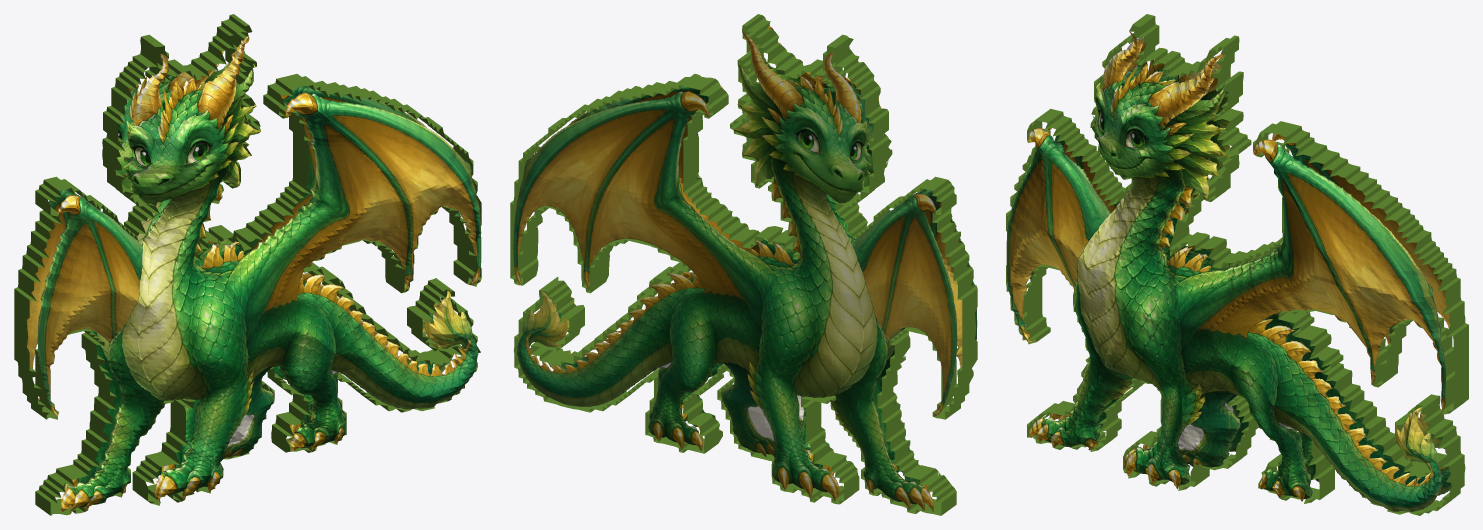
The model's file is dragon.obj.
The picture shows the model from 3 angles, left to right: view 1: azimuth 30°, elevation 25°; view 2: azimuth 150°, elevation 25°; view 3: azimuth 330°, elevation 25°; orthographic projection.
Visible parts, largest first — view 1: front_exact, solid_edges, back_exact; view 2: back_exact, solid_edges, front_exact; view 3: front_exact, solid_edges, back_exact.
Boxes of the visible parts, x1,y1,x2,y2 form: front_exact: (37,35,481,512); solid_edges: (14,14,481,515); back_exact: (26,51,460,493); back_exact: (513,31,957,511); solid_edges: (510,14,977,515); front_exact: (534,24,977,493); front_exact: (1006,32,1445,511); solid_edges: (1006,14,1468,515); back_exact: (1030,37,1453,495).
Bounding box in the file's own units: 3.96 × 3.85 × 0.5971.
2 materials, 1 textured.
